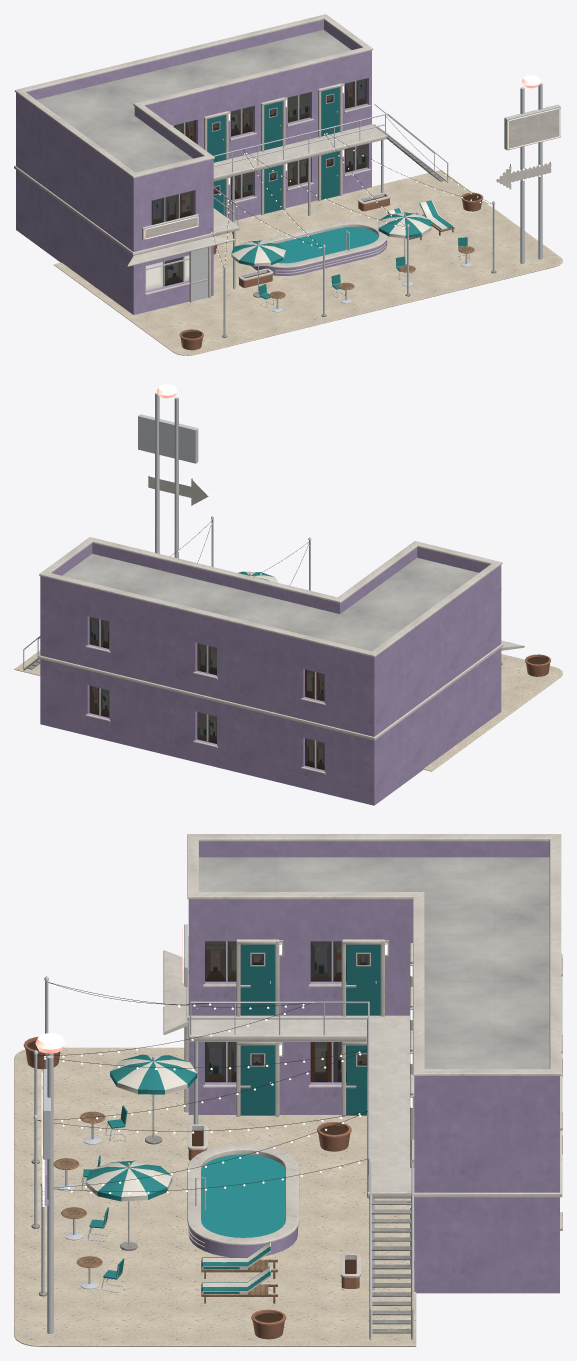
The model's file is plot_motel_court.gltf.
3 renders of one model, top to bottom at view 1: azimuth 30°, elevation 25°; view 2: azimuth 150°, elevation 25°; view 3: azimuth 270°, elevation 25°, orthographic. The views are drawn at different scales.
Visible parts, largest first — view 1: plot_motel_court_mesh, sign_face_2, sign_face; view 2: plot_motel_court_mesh; view 3: plot_motel_court_mesh.
Part boxes in pixels (bbox=[...]): plot_motel_court_mesh: bbox=[14, 14, 562, 355]; sign_face_2: bbox=[507, 107, 559, 149]; sign_face: bbox=[144, 216, 198, 239]; plot_motel_court_mesh: bbox=[14, 384, 562, 805]; plot_motel_court_mesh: bbox=[14, 834, 562, 1346].
Size of the model in its own units: 19.75 by 8.85 by 15.08.
Materials: 15 (9 with a texture image).
